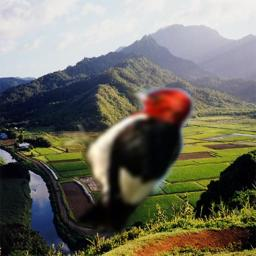Woodpecker: (58, 87, 196, 238)
